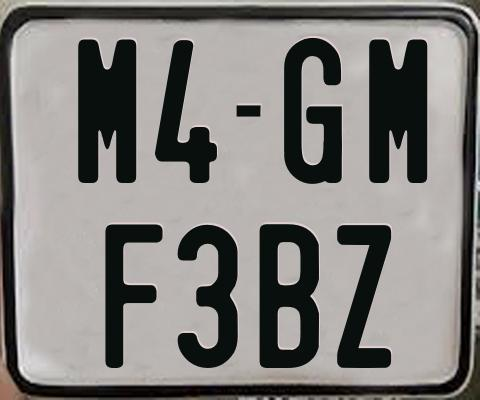3: (174, 224, 235, 371)
4: (155, 37, 221, 186)
B: (257, 223, 321, 370)
F: (103, 222, 167, 370)
G: (284, 38, 343, 189)
M: (369, 37, 430, 183), (77, 37, 135, 185)
Z: (336, 223, 395, 371)
